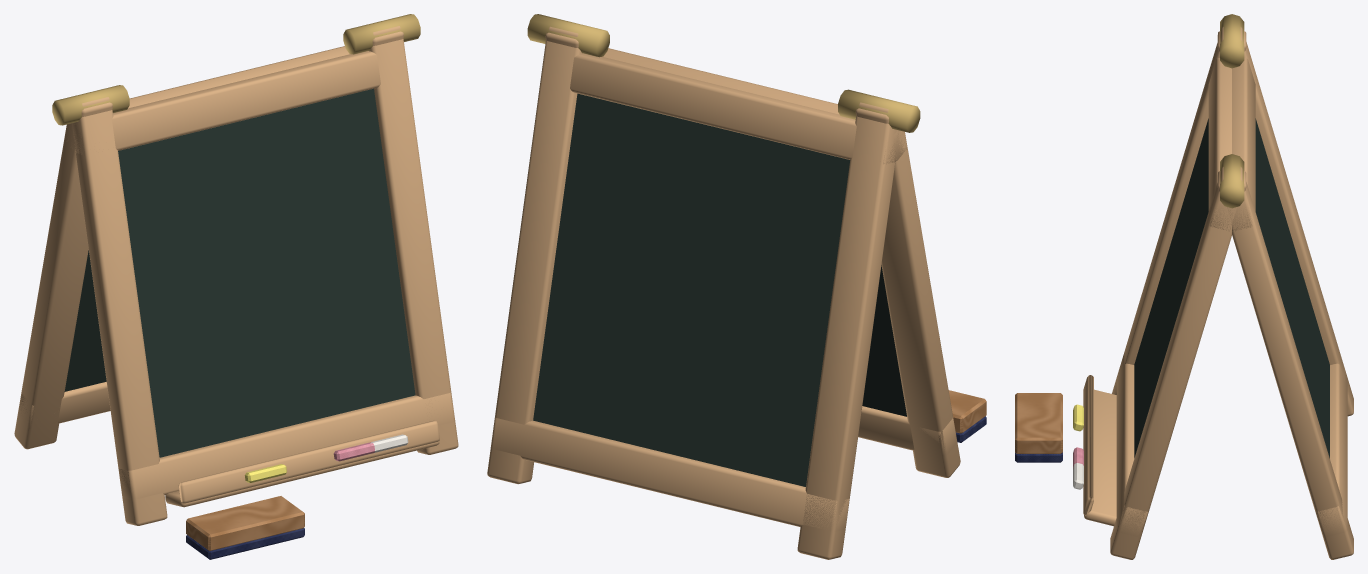
Rendered from LobbyKit7.fbx.
The picture shows the model from 3 angles, left to right: view 1: azimuth 30°, elevation 25°; view 2: azimuth 150°, elevation 25°; view 3: azimuth 270°, elevation 25°; orthographic projection. The views are drawn at different scales.
Parts seen in each view (by area): view 1: LK_SignBoard_Slate, LK_Sign_Oak, LK_SignBits_Pal, LK_SignHinge_Brass; view 2: LK_SignBoard_Slate, LK_Sign_Oak, LK_SignHinge_Brass, LK_SignBits_Pal; view 3: LK_Sign_Oak, LK_SignBoard_Slate, LK_SignBits_Pal, LK_SignHinge_Brass.
Boxes of the visible parts, x1=… form: LK_SignBoard_Slate: x1=64, y1=88, x2=415, y2=457; LK_Sign_Oak: x1=14, y1=26, x2=458, y2=525; LK_SignBits_Pal: x1=186, y1=434, x2=408, y2=559; LK_SignHinge_Brass: x1=52, y1=14, x2=420, y2=125; LK_SignBoard_Slate: x1=533, y1=93, x2=906, y2=486; LK_Sign_Oak: x1=487, y1=26, x2=960, y2=559; LK_SignHinge_Brass: x1=527, y1=14, x2=920, y2=132; LK_SignBits_Pal: x1=948, y1=390, x2=986, y2=442; LK_Sign_Oak: x1=1083, y1=27, x2=1353, y2=559; LK_SignBoard_Slate: x1=1134, y1=118, x2=1329, y2=458; LK_SignBits_Pal: x1=1015, y1=393, x2=1083, y2=489; LK_SignHinge_Brass: x1=1220, y1=14, x2=1244, y2=208.
Size of the model in its own units: 2200 by 2303 by 1842.
